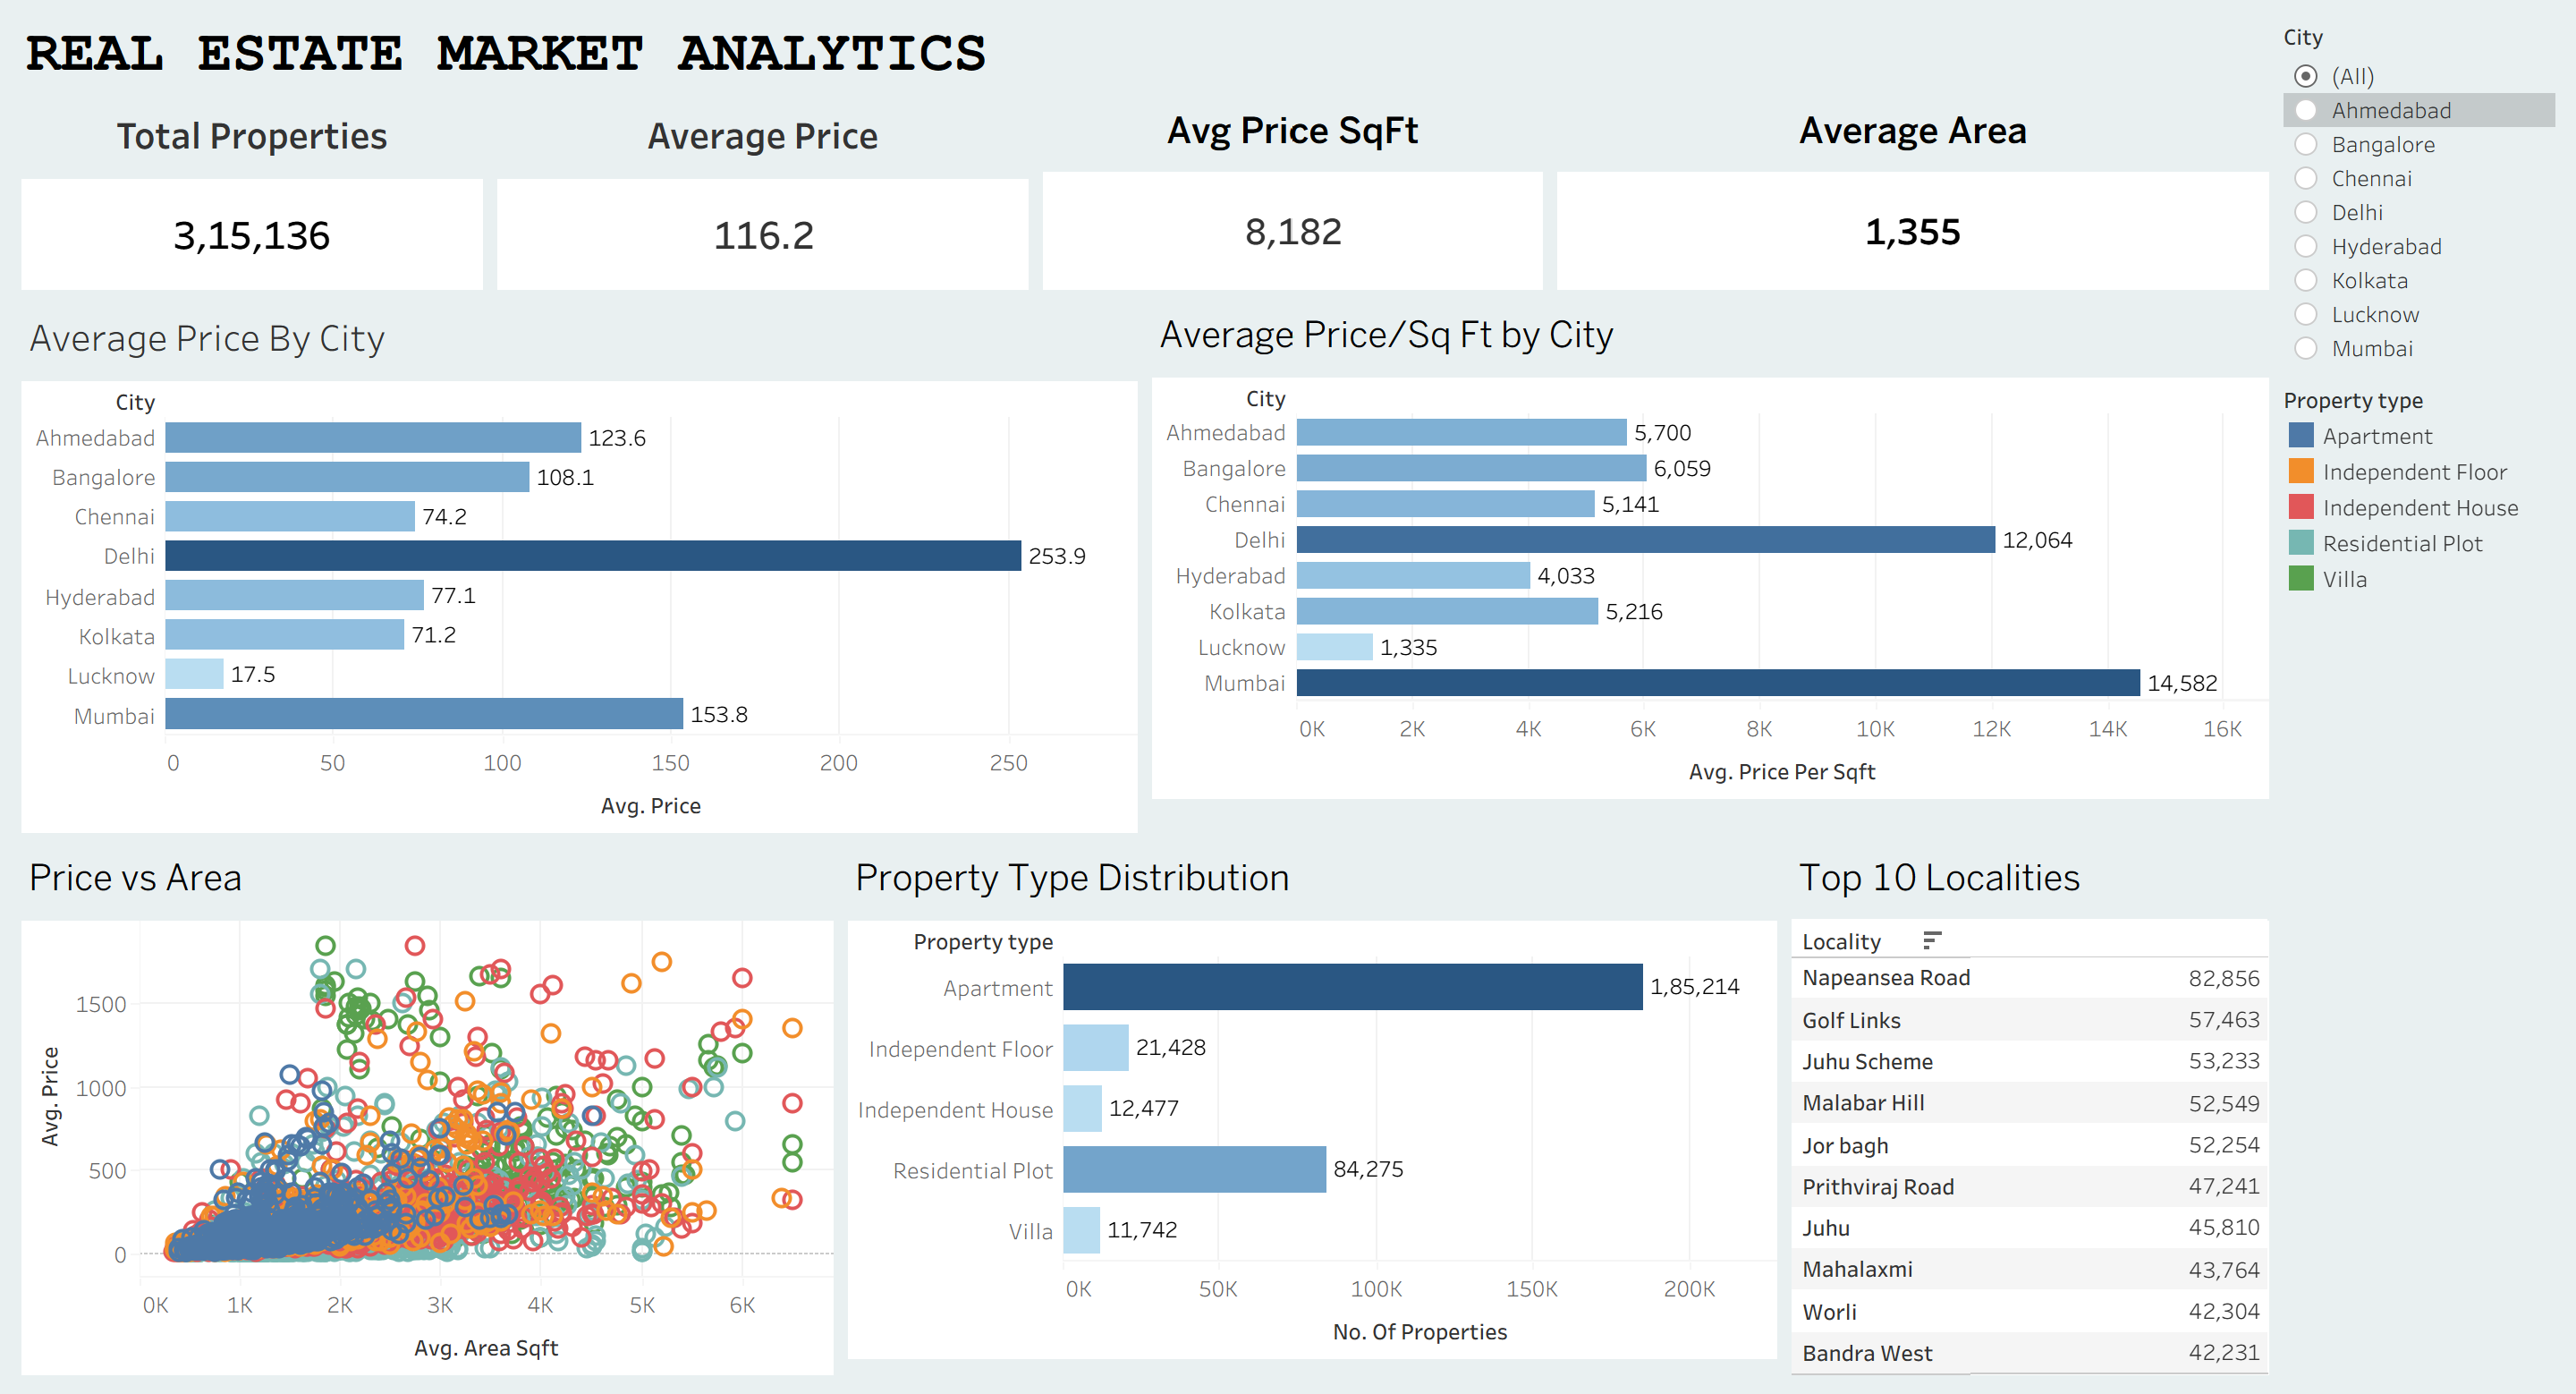

The page's visual inventory and layout, read from the dashboard file:
{"tool":"tableau","page":{"name":"Dashboard 1","canvas":[1000,1000],"units":"permille","ordinal":0},"visuals":[{"type":"title","box":[6.5,12.8,856.8,71.9]},{"type":"filter","title":"Sheet 5","param":"[federated.0ykntn11bkanmi1bqxz441ozv3s6].[none:city:nk]","box":[863.3,12.8,130.2,324.3]},{"type":"worksheet","title":"Sheet 1","mark":"Text","box":[6.5,84.7,180.6,141.4]},{"type":"worksheet","title":"Sheet 2","mark":"Text","box":[187.1,84.7,206.7,141.4]},{"type":"worksheet","title":"Sheet 3","mark":"Automatic","box":[393.7,84.7,194.5,141.4]},{"type":"worksheet","title":"Sheet 4","mark":"Automatic","box":[588.2,84.7,275.1,141.4]},{"type":"worksheet","title":"Sheet 5","mark":"Automatic","rows":["city"],"cols":["Price"],"box":[6.5,226.1,428.4,380.5]},{"type":"worksheet","title":"Sheet 7","mark":"Automatic","rows":["city"],"cols":["price_per_sqft"],"box":[434.9,226.1,428.4,380.5]},{"type":"legend","title":"Sheet 6","param":"[federated.0ykntn11bkanmi1bqxz441ozv3s6].[none:Property_type:nk]","box":[863.3,337.1,130.2,201.3]},{"type":"worksheet","title":"Sheet 6","mark":"Automatic","rows":["Price"],"cols":["area_sqft"],"box":[6.5,606.6,313.2,380.6]},{"type":"worksheet","title":"Sheet 8","mark":"Automatic","rows":["Property_type"],"cols":["clean_real_estate_data.csv_54D589D9179A4974BA1E56E7F329F1A7"],"box":[319.7,606.6,357.2,380.6]},{"type":"worksheet","title":"Sheet 9","mark":"Automatic","rows":["locality"],"box":[676.9,606.6,186.4,380.6]}]}

Visuals, with their boxes on the dashboard's canvas, which has no fixed pixel size, in thousandths of its width and height (x1, y1, x2, y2). These are canvas units, not pixel positions in the 2576x1394 screenshot, which may show the page scaled, cropped or inside an application window:
title: region(6, 13, 863, 85)
"Sheet 5" filter: region(863, 13, 994, 337)
"Sheet 1" worksheet (Text marks): region(6, 85, 187, 226)
"Sheet 2" worksheet (Text marks): region(187, 85, 394, 226)
"Sheet 3" worksheet: region(394, 85, 588, 226)
"Sheet 4" worksheet: region(588, 85, 863, 226)
"Sheet 5" worksheet: region(6, 226, 435, 607)
"Sheet 7" worksheet: region(435, 226, 863, 607)
"Sheet 6" legend: region(863, 337, 994, 538)
"Sheet 6" worksheet: region(6, 607, 320, 987)
"Sheet 8" worksheet: region(320, 607, 677, 987)
"Sheet 9" worksheet: region(677, 607, 863, 987)
